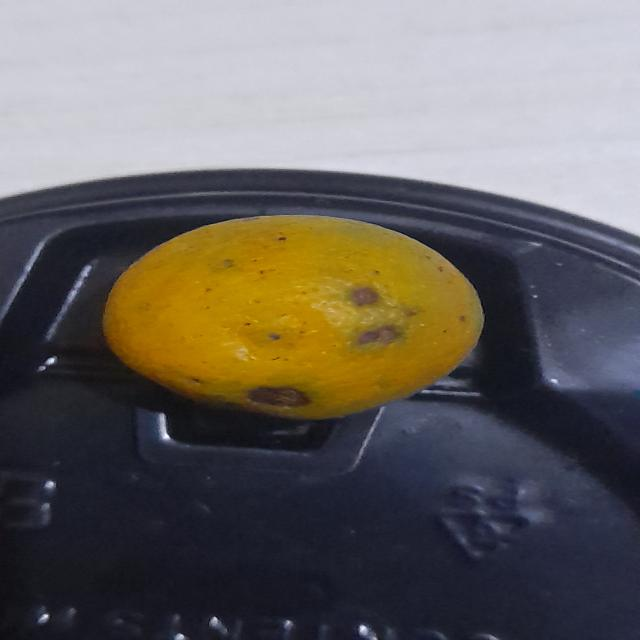black spot: (95, 209, 482, 421)
